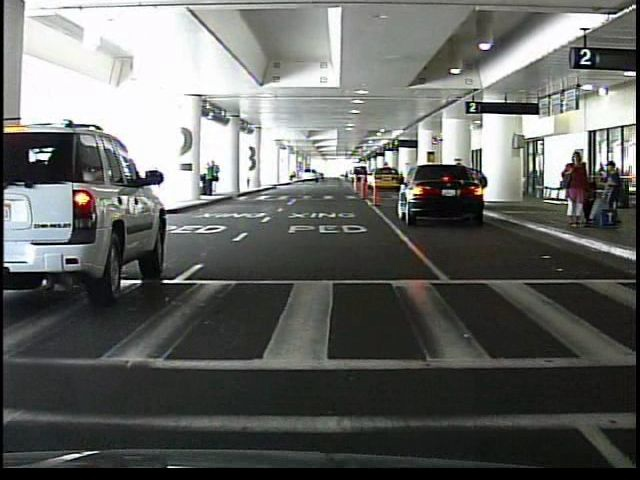person: (560, 152, 593, 228), (598, 161, 620, 228), (577, 158, 588, 202), (203, 161, 215, 198), (212, 161, 221, 196)
